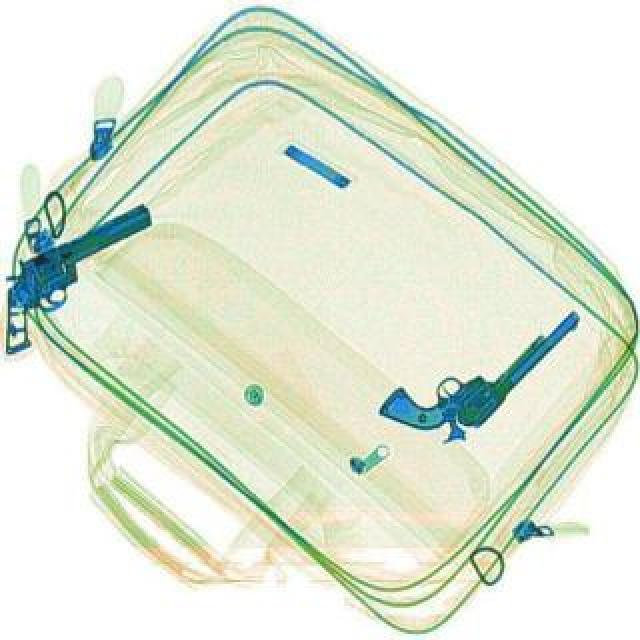gun: (372, 262, 584, 466), (0, 202, 170, 322)
